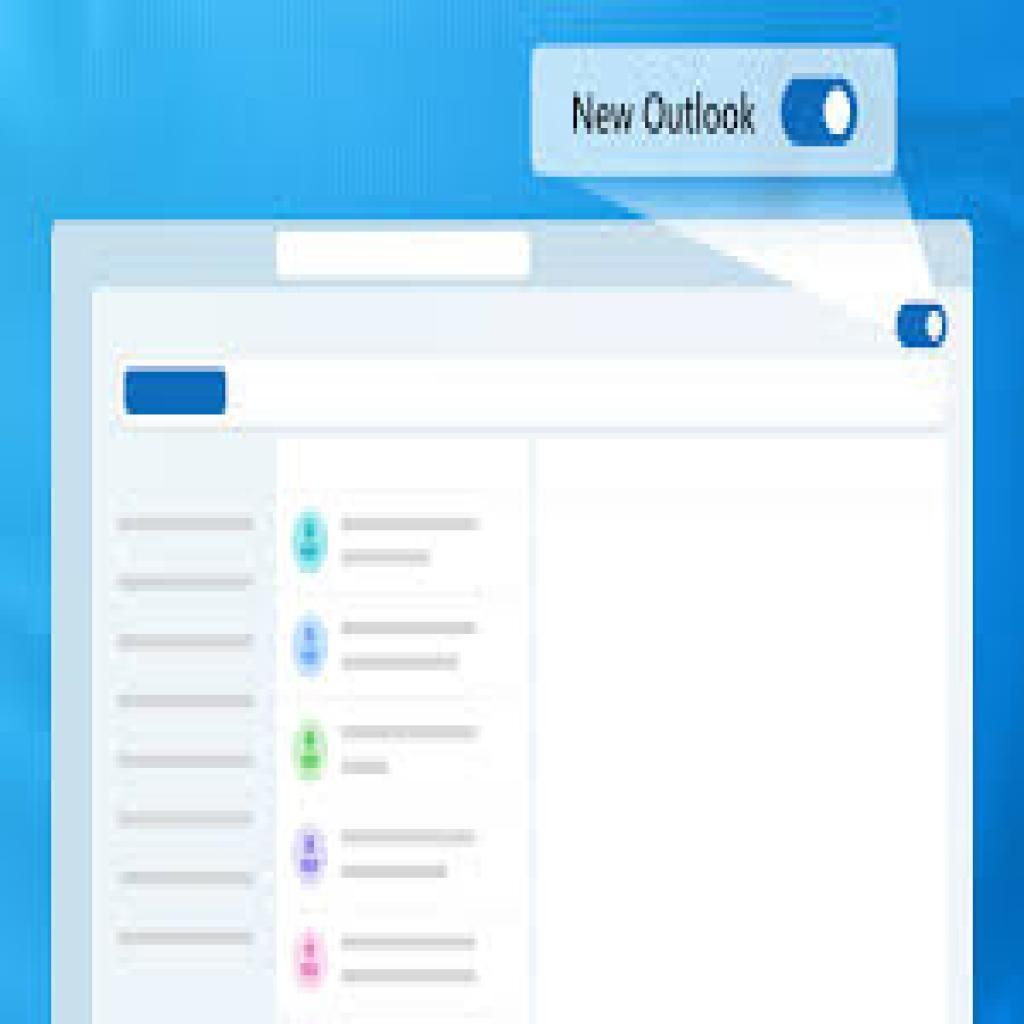switch: (778, 75, 862, 152), (894, 299, 953, 352)
